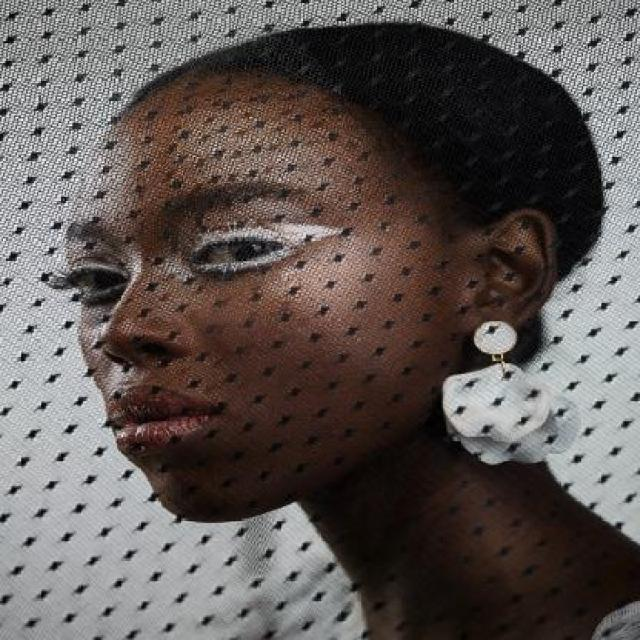closed-mouth: (91, 388, 227, 452)
